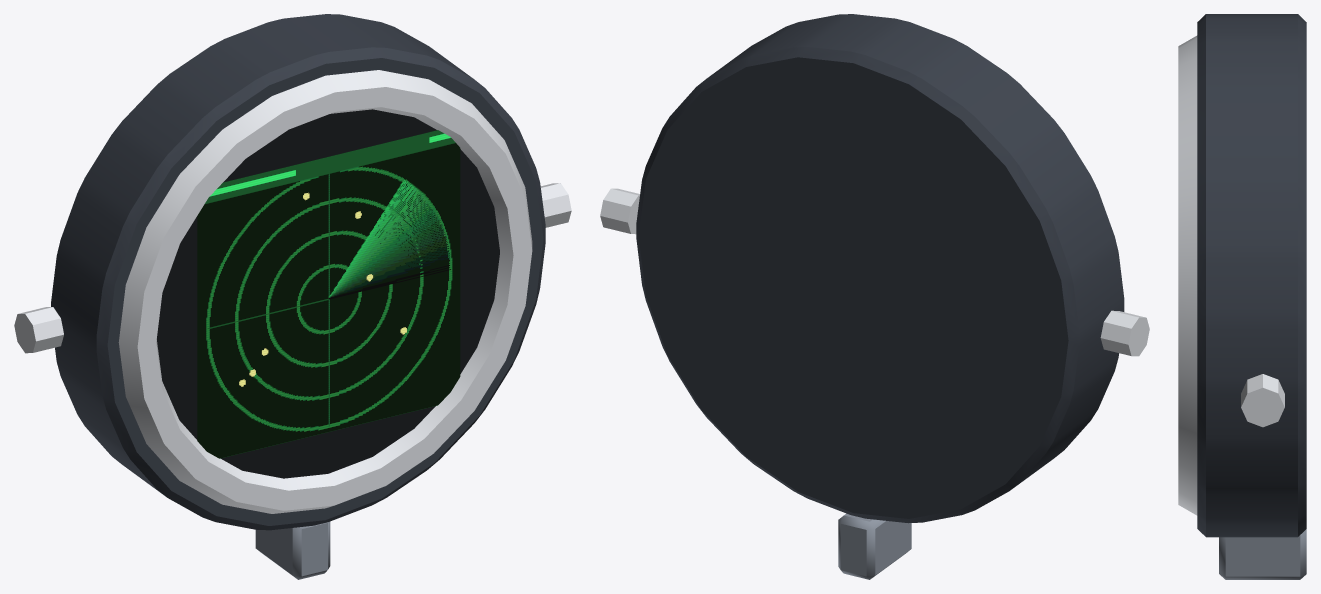
File: instrument_radar_scope.glb
3 views of the same model, side by side, from view 1: azimuth 30°, elevation 25°; view 2: azimuth 150°, elevation 25°; view 3: azimuth 270°, elevation 25° (orthographic). The views are drawn at different scales.
Visible parts, largest first — view 1: instrument_radar_scope; view 2: instrument_radar_scope; view 3: instrument_radar_scope.
Boxes of the visible parts, x1=… form: instrument_radar_scope: x1=14, y1=14, x2=571, y2=579; instrument_radar_scope: x1=600, y1=14, x2=1149, y2=579; instrument_radar_scope: x1=1178, y1=14, x2=1306, y2=579.
Bounding box in the file's own units: 0.57 × 0.539 × 0.1173.
Materials: 5 (1 with a texture image).
